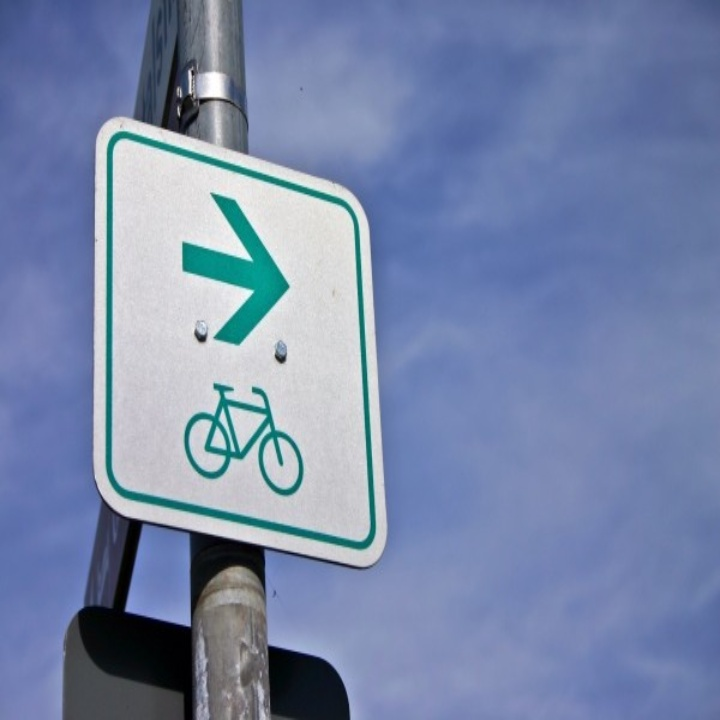bicycle: (177, 377, 307, 501)
